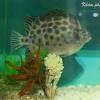Scat Fish: (10, 9, 93, 62)
